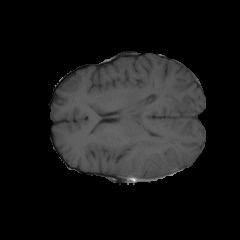glioma: (127, 137, 172, 177)
